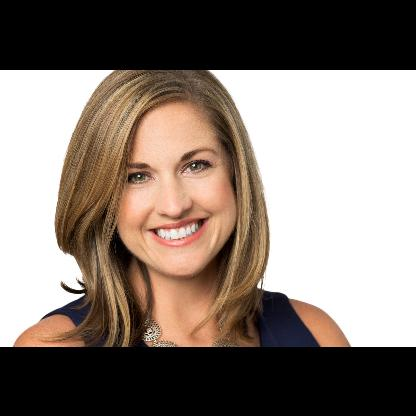Female: (114, 99, 238, 277)
